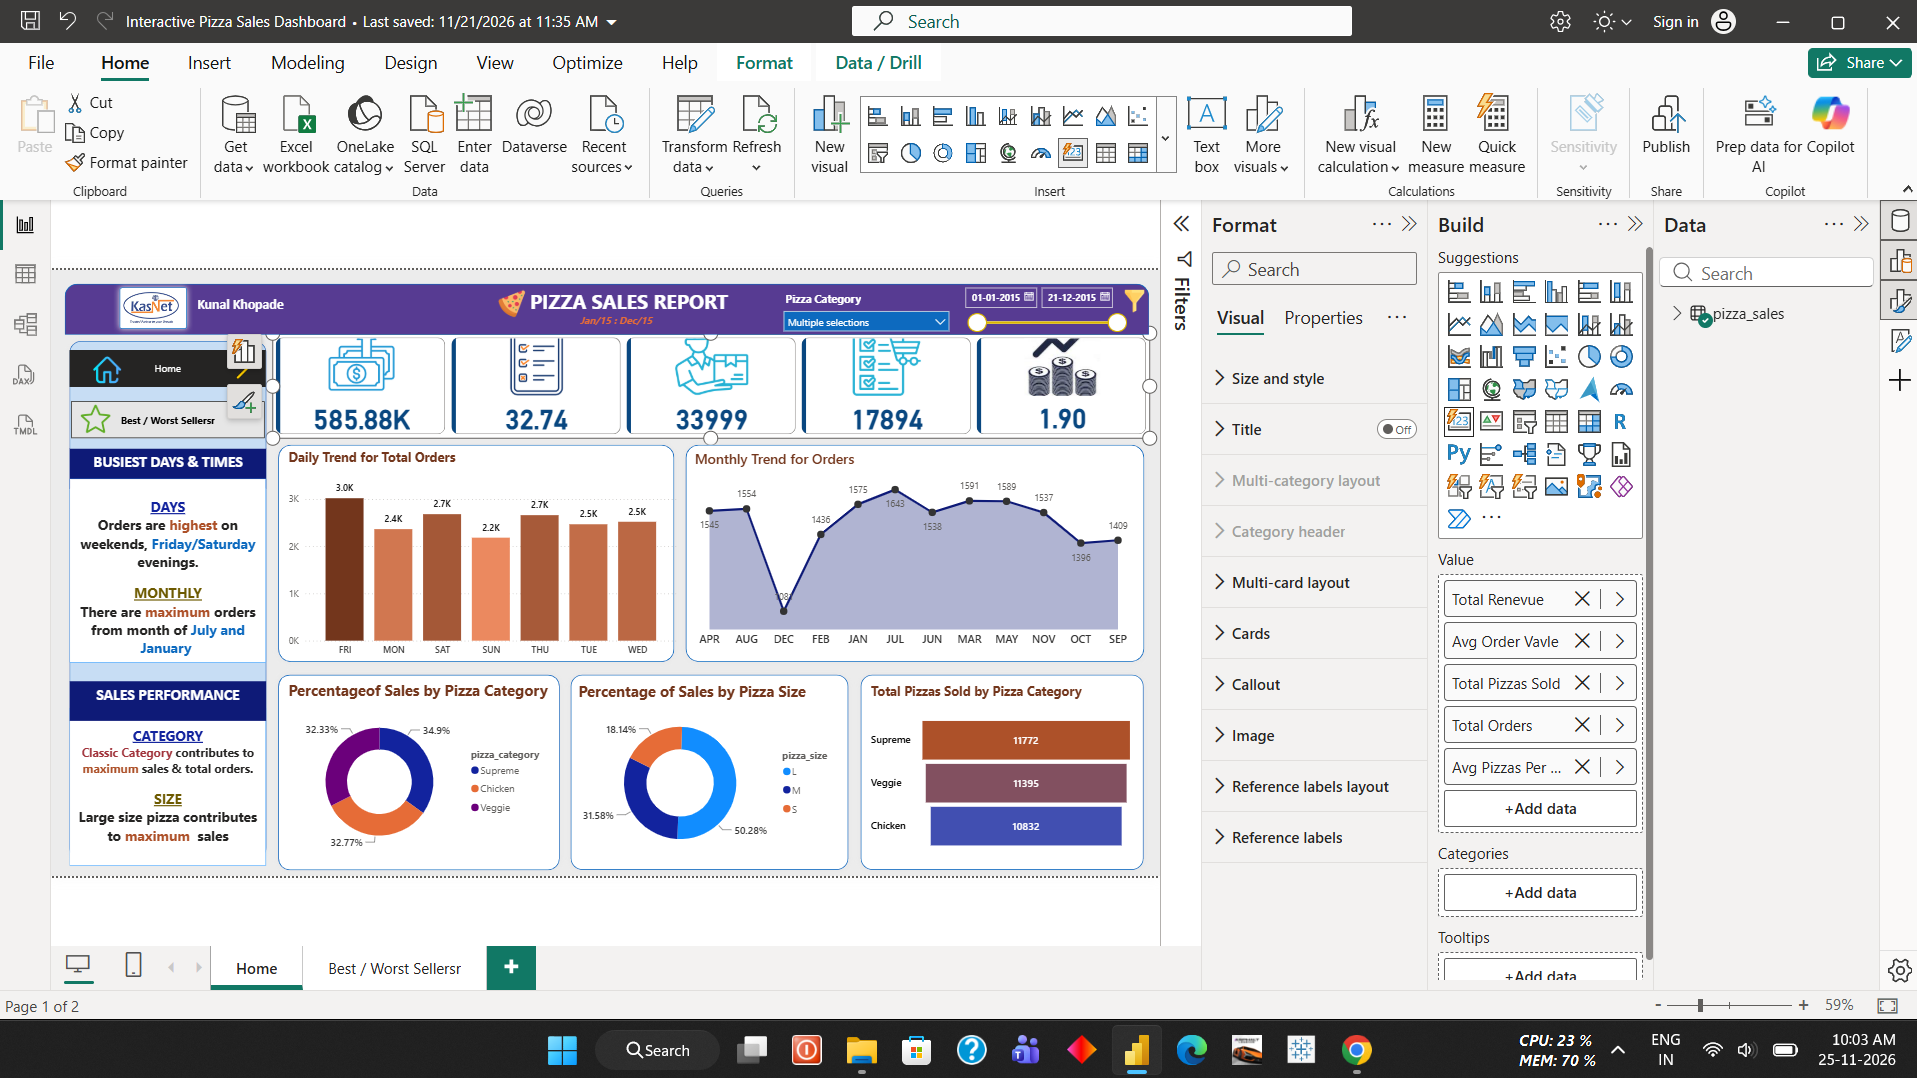

This screenshot's page, from the dashboard's own definition file:
{"tool":"powerbi","page":{"name":"Home","canvas":[1500,820],"ordinal":0},"visuals":[{"type":"shape","box":[299,228.9,551.9,310.1],"z":0},{"type":"cardVisual","fields":{"Data":["pizza_sales.Total Renevue","pizza_sales.Avg Order Vavle","pizza_sales.Total Pizzas Sold","pizza_sales.Total Orders","pizza_sales.Avg Pizzas Per Order"]},"box":[298.7,86.7,1187.6,142],"z":1000},{"type":"shape","box":[19,19,1466.8,68.8],"z":2000},{"type":"textbox","box":[580.9,18.4,400.2,49.8],"z":3000},{"type":"textbox","box":[710,53.5,271.1,51.6],"z":4000},{"type":"image","box":[574.4,21.4,97.3,47.5],"z":5000},{"type":"columnChart","title":"Daily Trend for Total Orders","fields":{"Category":["pizza_sales.Order Day"],"Y":["pizza_sales.Total Orders"]},"box":[315.6,241.8,535.3,289.8],"z":6000},{"type":"shape","box":[850.1,228.7,636.2,309.8],"z":7000},{"type":"areaChart","title":"Monthly Trend for Orders","fields":{"Category":["pizza_sales.Order Month"],"Y":["pizza_sales.Total Orders"]},"box":[866.3,242.1,602.8,277.7],"z":8000},{"type":"shape","box":[299,539,396.8,280.6],"z":9000},{"type":"shape","box":[695.4,538.8,391.6,280.1],"z":10000},{"type":"shape","box":[1087,538.8,398.7,280.1],"z":11000},{"type":"shape","box":[17.5,87.5,282.5,717.5],"z":12000},{"type":"donutChart","title":"Percentageof Sales by Pizza Category","fields":{"Category":["pizza_sales.pizza_category"],"Y":["pizza_sales.Total Renevue"]},"box":[315.6,553.7,365.5,249.2],"z":13000},{"type":"donutChart","title":"Percentage of Sales by Pizza Size","fields":{"Category":["pizza_sales.pizza_size"],"Y":["pizza_sales.Total Renevue"]},"box":[708.8,555.6,365.5,249.2],"z":14000},{"type":"funnel","title":"Total Pizzas Sold by Pizza Category","fields":{"Category":["pizza_sales.pizza_category"],"Y":["pizza_sales.Total Pizzas Sold"]},"box":[1103.6,557.8,365.5,249.2],"z":15000},{"type":"textbox","box":[25.8,241.8,265.8,53.5],"z":16000},{"type":"textbox","box":[25.8,282.4,265.8,249.2],"z":17000},{"type":"textbox","box":[25.8,592.5,265.8,214.1],"z":18000},{"type":"textbox","box":[25.8,555.6,265.8,53.5],"z":19000},{"type":"slicer","fields":{"Values":["pizza_sales.pizza_category"]},"box":[980.2,23.7,244.5,59.3],"z":20000},{"type":"slicer","fields":{"Values":["pizza_sales.order_date"]},"box":[1224.7,14.2,244.5,109.2],"z":21000},{"type":"pageNavigator","box":[25,107.5,265,50],"z":22000},{"type":"pageNavigator","box":[27.5,177.5,262.5,50],"z":23000},{"type":"image","box":[230,110,60,42.5],"z":24000},{"type":"image","box":[52.5,110,47.5,50],"z":25000},{"type":"image","box":[35,172.5,50,57.5],"z":26000},{"type":"image","box":[1445,22.5,40,40],"z":27000},{"type":"shape","box":[85,15,107.5,72.5],"z":28000},{"type":"image","box":[92.5,17.5,85,67.5],"z":29000},{"type":"textbox","box":[192.5,30,270,52.5],"z":30000}]}

Visuals, with their boxes on the page's 1500x820 design canvas (x1, y1, x2, y2). These are canvas units, not pixel positions in the 1917x1078 screenshot, which may show the page scaled, cropped or inside an application window:
shape: 299:229:851:539
cardVisual - pizza_sales.Total Renevue x pizza_sales.Avg Order Vavle: 299:87:1486:229
shape: 19:19:1486:88
textbox: 581:18:981:68
textbox: 710:54:981:105
image: 574:21:672:69
"Daily Trend for Total Orders" columnChart: 316:242:851:532
shape: 850:229:1486:538
"Monthly Trend for Orders" areaChart: 866:242:1469:520
shape: 299:539:696:820
shape: 695:539:1087:819
shape: 1087:539:1486:819
shape: 18:88:300:805
"Percentageof Sales by Pizza Category" donutChart: 316:554:681:803
"Percentage of Sales by Pizza Size" donutChart: 709:556:1074:805
"Total Pizzas Sold by Pizza Category" funnel: 1104:558:1469:807
textbox: 26:242:292:295
textbox: 26:282:292:532
textbox: 26:592:292:807
textbox: 26:556:292:609
slicer - pizza_sales.pizza_category: 980:24:1225:83
slicer - pizza_sales.order_date: 1225:14:1469:123
pageNavigator: 25:108:290:158
pageNavigator: 28:178:290:228
image: 230:110:290:152
image: 52:110:100:160
image: 35:172:85:230
image: 1445:22:1485:62
shape: 85:15:192:88
image: 92:18:178:85
textbox: 192:30:462:82
